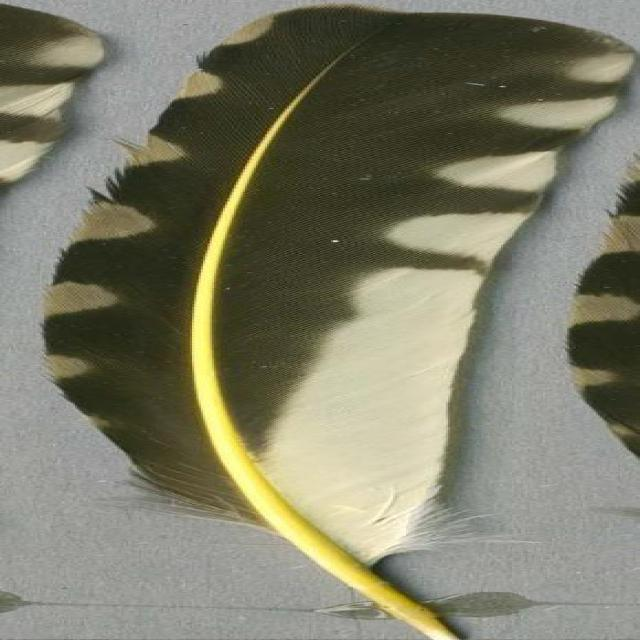feather: (38, 6, 640, 639)
